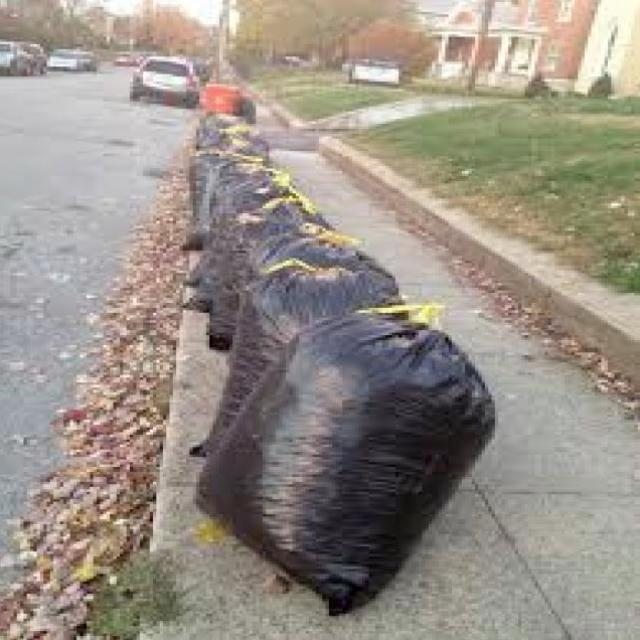garbage: (54, 101, 492, 611)
